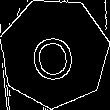O_N: (29, 24, 80, 82)
